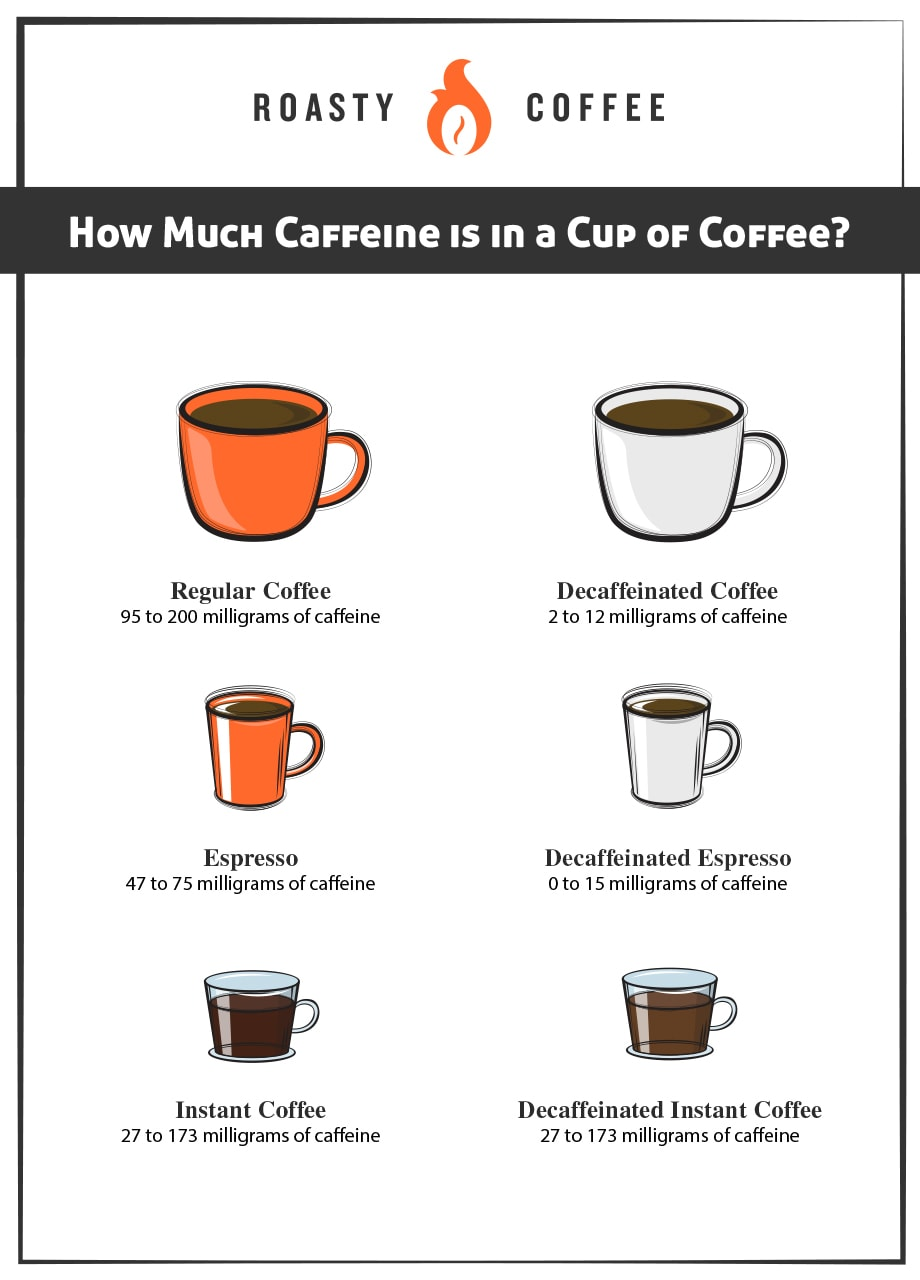cup: (175, 370, 377, 553), (588, 375, 794, 549), (203, 679, 329, 814), (618, 681, 744, 814), (197, 968, 325, 1066), (620, 968, 740, 1068)
